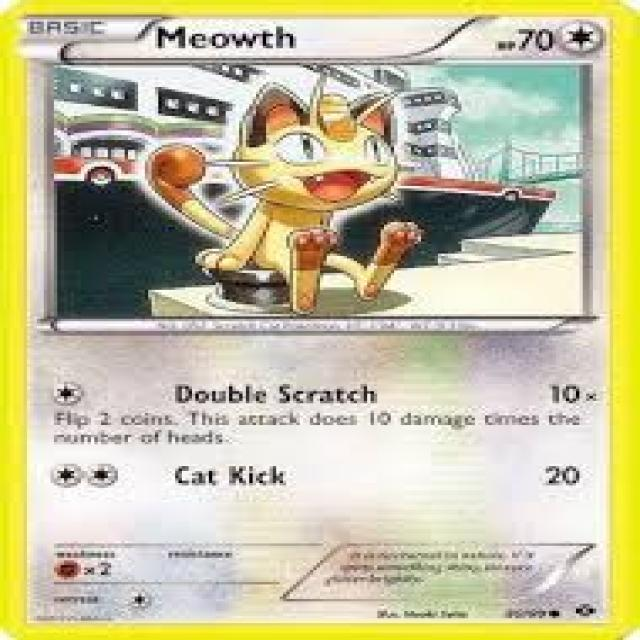Meowth: (229, 88, 398, 301)
